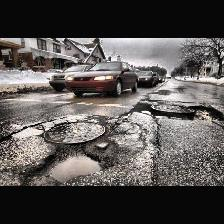pothole: (16, 138, 118, 186), (189, 105, 223, 123), (128, 100, 154, 116)
